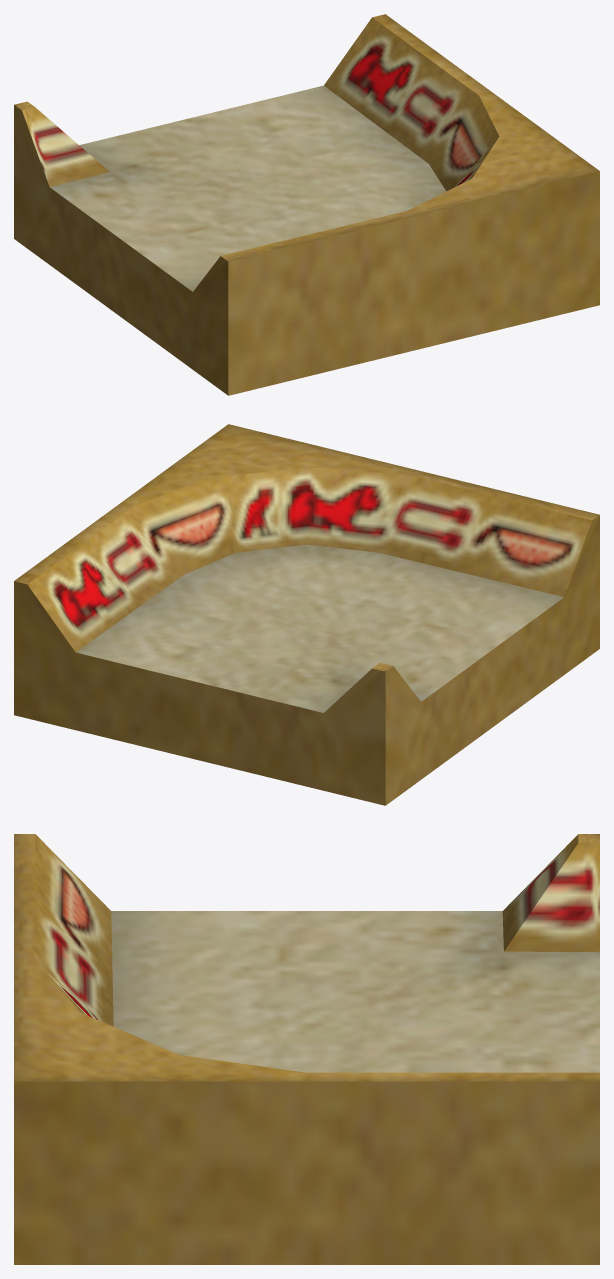
The model's file is egy_tile_nw_corner_static.obj.
The picture shows the model from 3 angles, top to bottom: view 1: azimuth 30°, elevation 25°; view 2: azimuth 150°, elevation 25°; view 3: azimuth 270°, elevation 25°; orthographic projection. The views are drawn at different scales.
Parts seen in each view (by area): view 1: tile_corner_static; view 2: tile_corner_static; view 3: tile_corner_static.
Boxes of the visible parts, x1=… form: tile_corner_static: x1=14, y1=14, x2=599, y2=395; tile_corner_static: x1=14, y1=424, x2=599, y2=805; tile_corner_static: x1=14, y1=834, x2=599, y2=1264.
Bounding box in the file's own units: 1 × 0.345 × 1.
